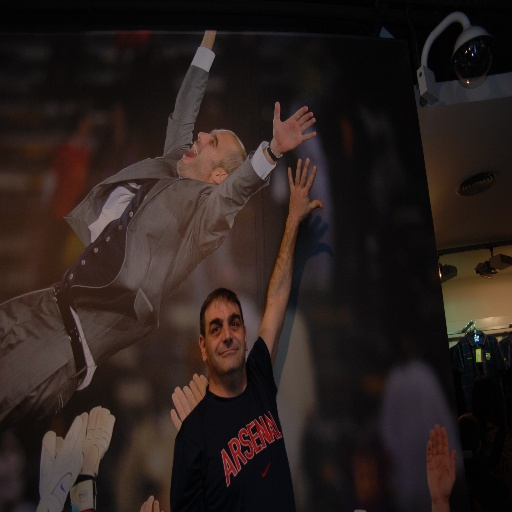hand: (286, 155, 323, 228), (266, 98, 311, 151), (426, 423, 456, 502), (168, 385, 197, 432), (188, 373, 210, 404), (139, 495, 160, 511)
